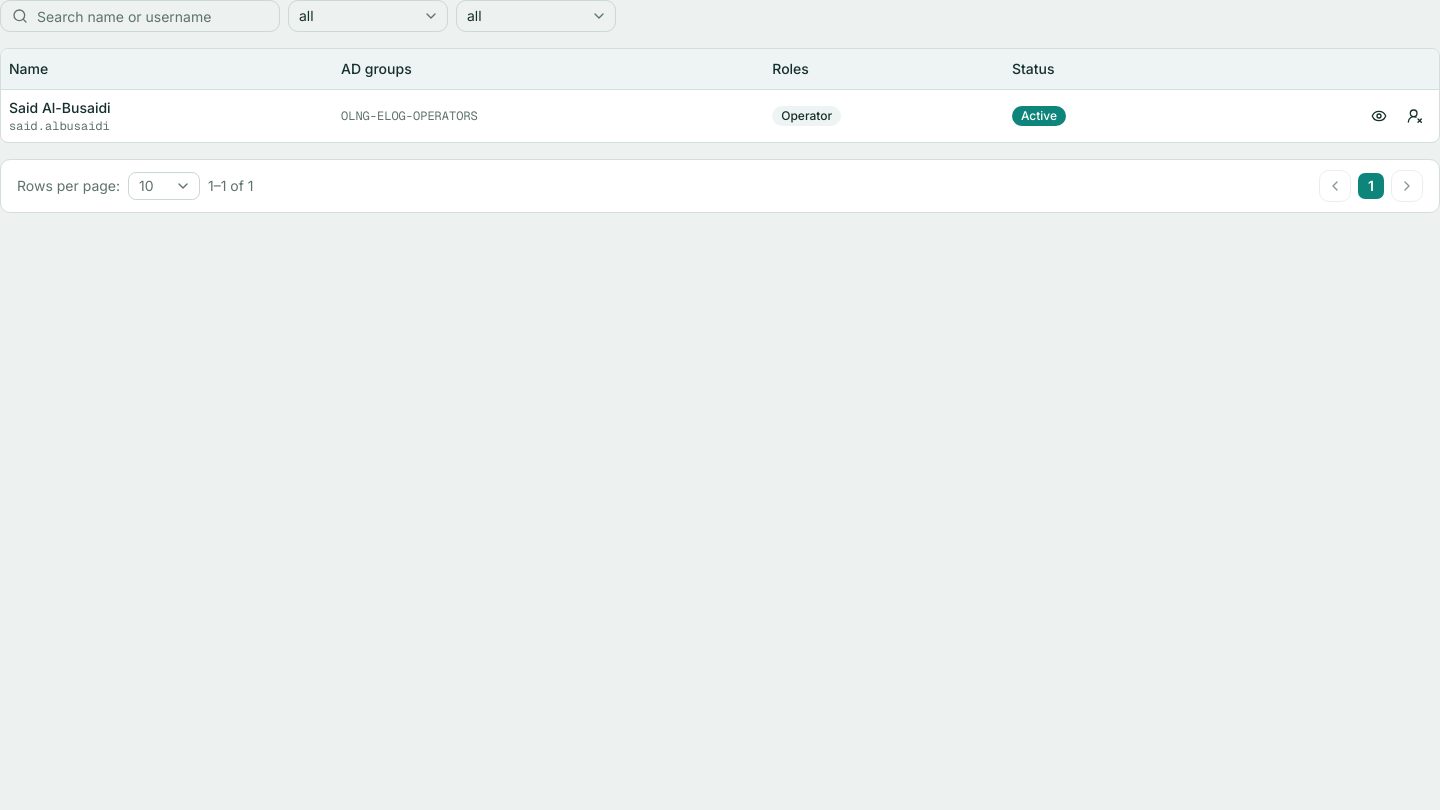
Test: UsersTable › sends nothing when the confirmation is cancelled
The width and height of the screenshot is (1440, 810).
Click the button named "Suspend Said Al-Busaidi": (1415, 116) [1399, 100, 1431, 132]
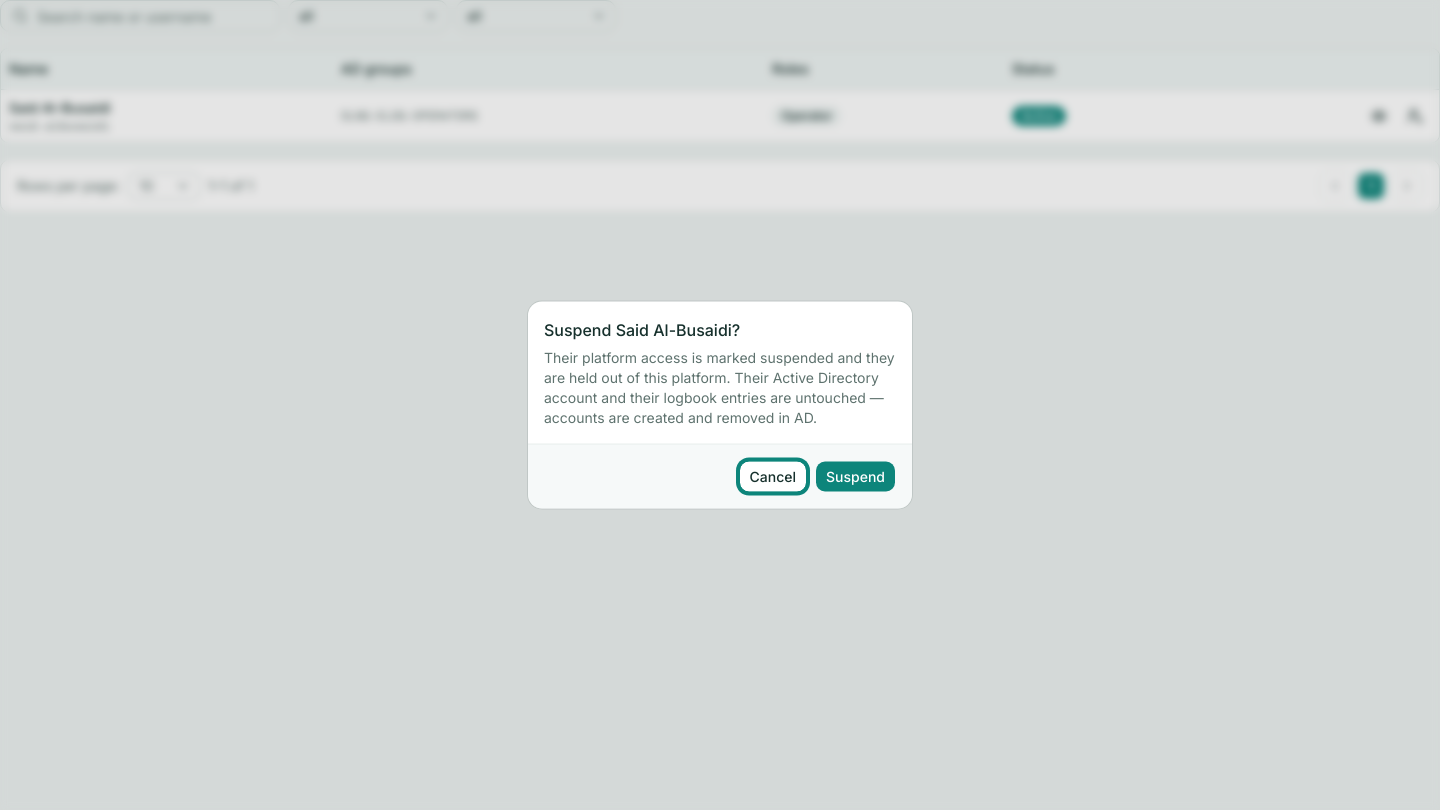
Click the button "Cancel": (773, 476) [738, 460, 807, 492]
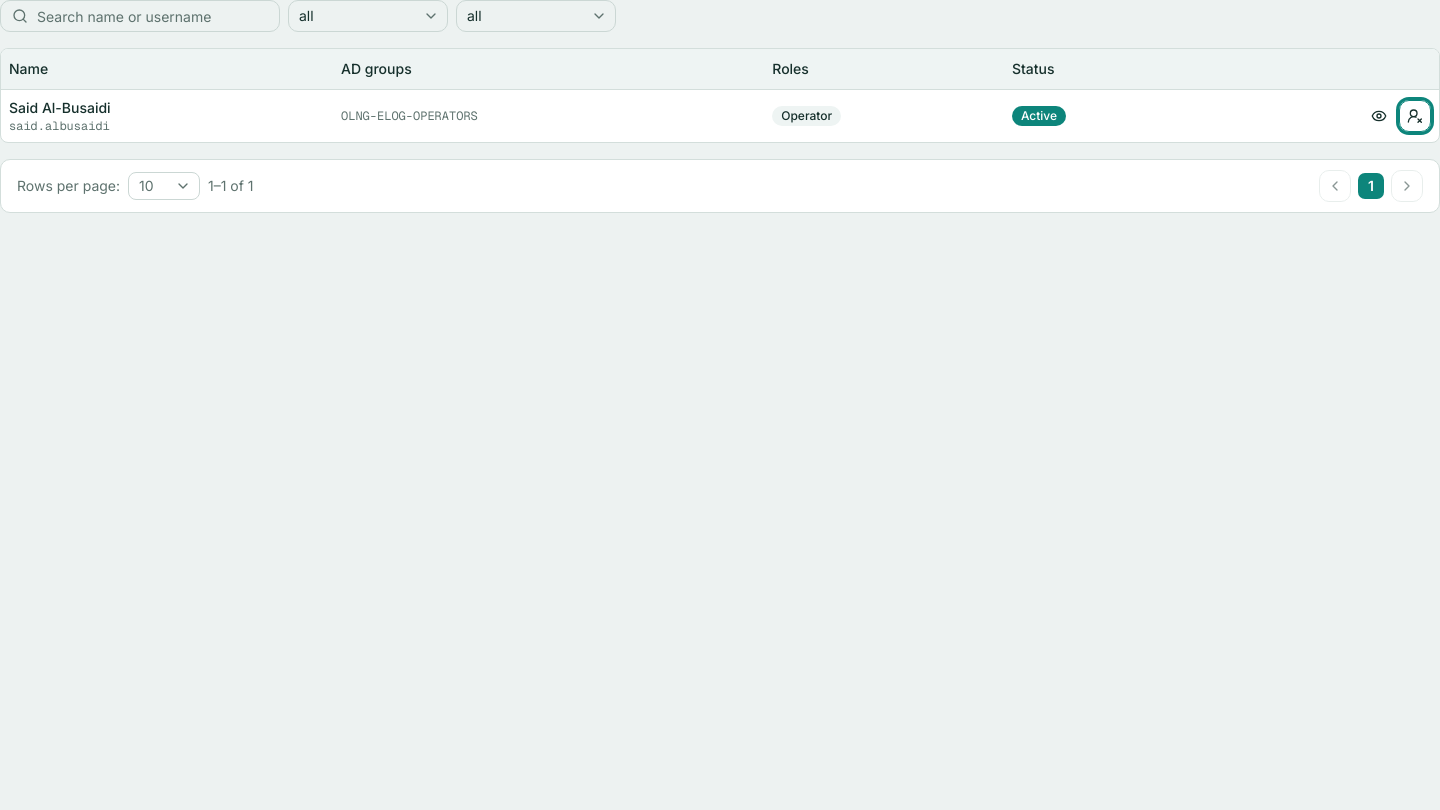
Check: the dialog is gone
